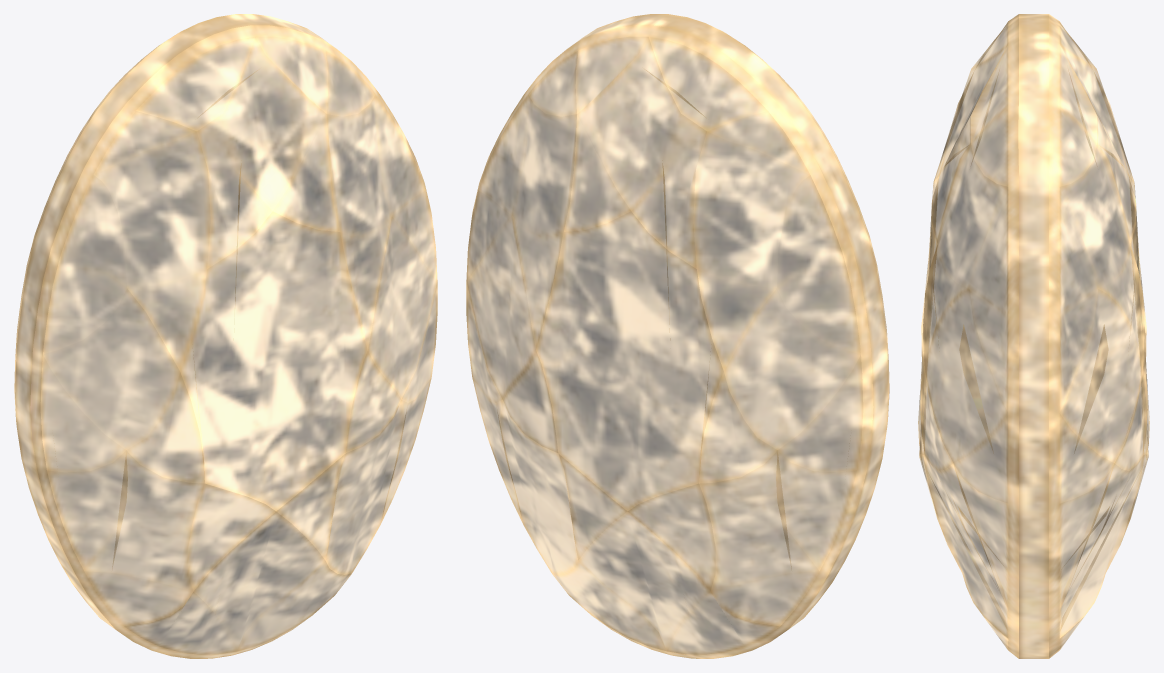
File: Oval.glb
3 views of the same model, side by side, from view 1: azimuth 30°, elevation 25°; view 2: azimuth 150°, elevation 25°; view 3: azimuth 270°, elevation 25° (orthographic). The views are drawn at different scales.
Parts seen in each view (by area): view 1: Plane.009_Diamond_Master_0; view 2: Plane.009_Diamond_Master_0; view 3: Plane.009_Diamond_Master_0.
Part boxes in pixels (x1,y1,x2,y2): Plane.009_Diamond_Master_0: (14, 14, 437, 658); Plane.009_Diamond_Master_0: (466, 14, 889, 658); Plane.009_Diamond_Master_0: (918, 14, 1149, 658).
Bounding box in the file's own units: 0.8086 × 1.19 × 0.4083.
Materials: 1 (1 with a texture image).
